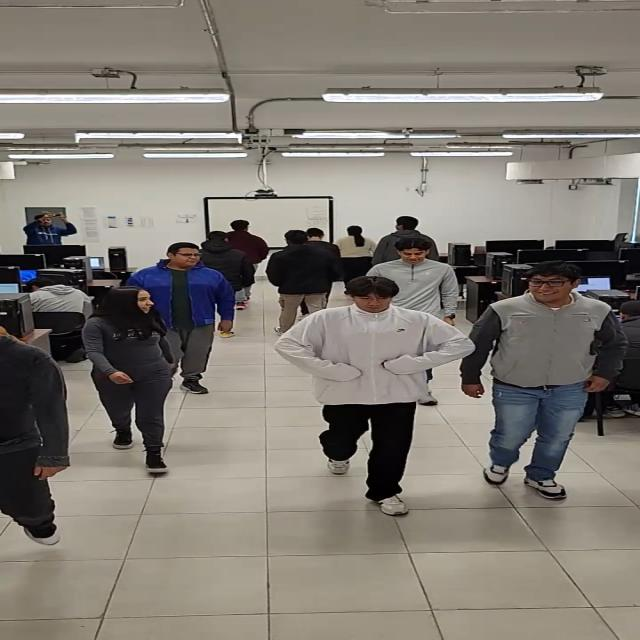Persona: (276, 276, 477, 516), (459, 262, 628, 501), (81, 287, 180, 476), (123, 240, 234, 394), (0, 318, 73, 547), (358, 234, 463, 334), (268, 229, 341, 333), (198, 231, 258, 310), (220, 218, 270, 300), (375, 216, 438, 267), (330, 223, 378, 278), (300, 228, 328, 244)
